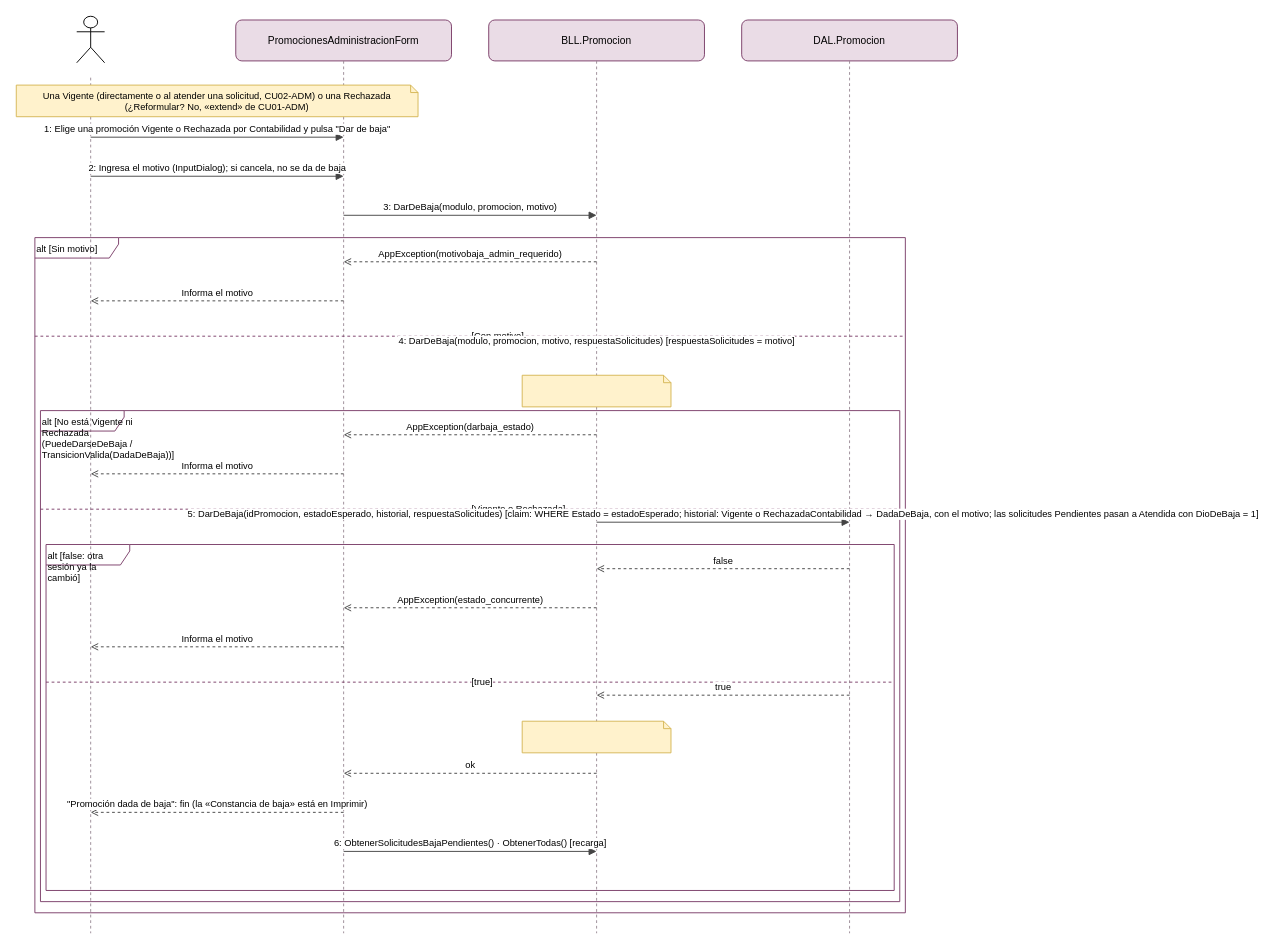
The diagram is 1275 pixels wide and 950 high, and some of its shapes have lost their labels. Here are the shapes that lost their labels. From the top down, the box of each, then its label:
(76, 15, 105, 63): Administración
(521, 374, 671, 407): PermisosAccion.Exigir(PromocionesAdminEditar, PromocionesAdmin)
(521, 720, 671, 753): bitacora.Registrar(modulo, …) · bitacoraNeg.Registrar(Cancelacion, …)
